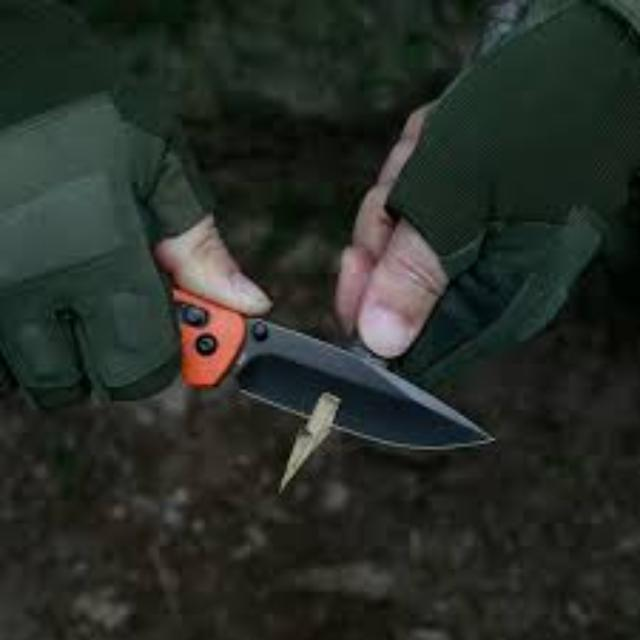Knife: (160, 274, 494, 452)
Person: (6, 12, 640, 492)
Weapon Holding: (8, 120, 266, 404)
